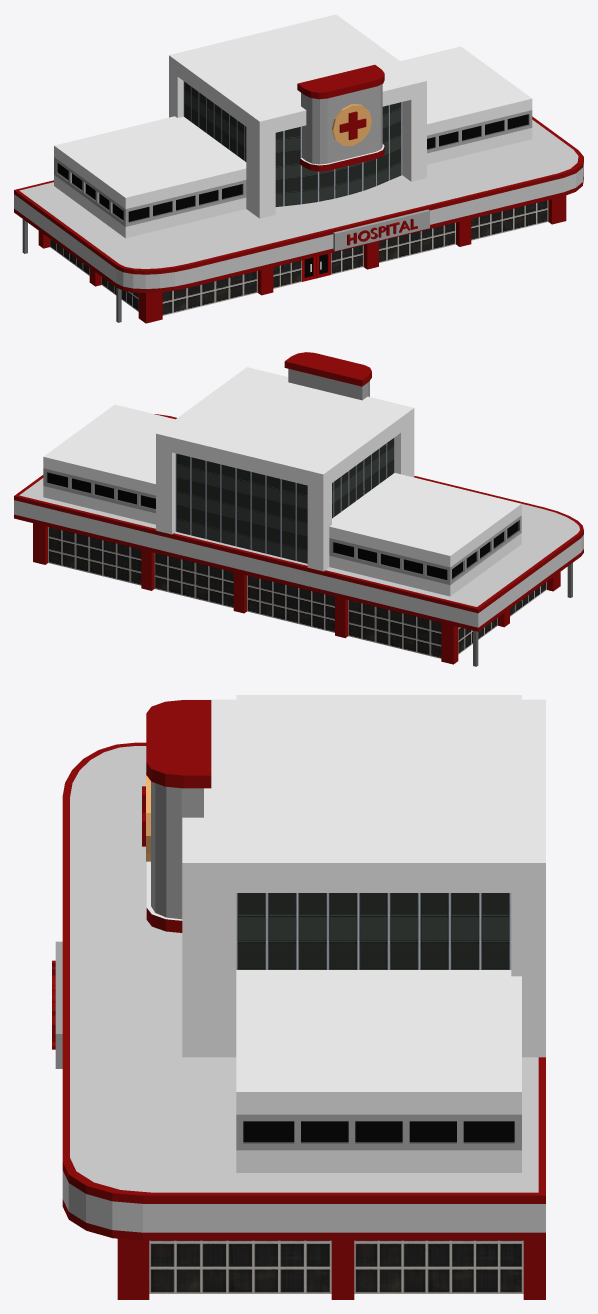
Rendered from Hospital-4.fbx.
The picture shows the model from 3 angles, top to bottom: view 1: azimuth 30°, elevation 25°; view 2: azimuth 150°, elevation 25°; view 3: azimuth 270°, elevation 25°; orthographic projection. The views are drawn at different scales.
Parts seen in each view (by area): view 1: Hospital; view 2: Hospital; view 3: Hospital.
Boxes of the visible parts, bbox=[...] form: Hospital: bbox=[14, 14, 583, 323]; Hospital: bbox=[14, 352, 583, 666]; Hospital: bbox=[52, 695, 545, 1299].
Size of what is drawn, in the model's own units: 50.06 by 18.57 by 23.08.
